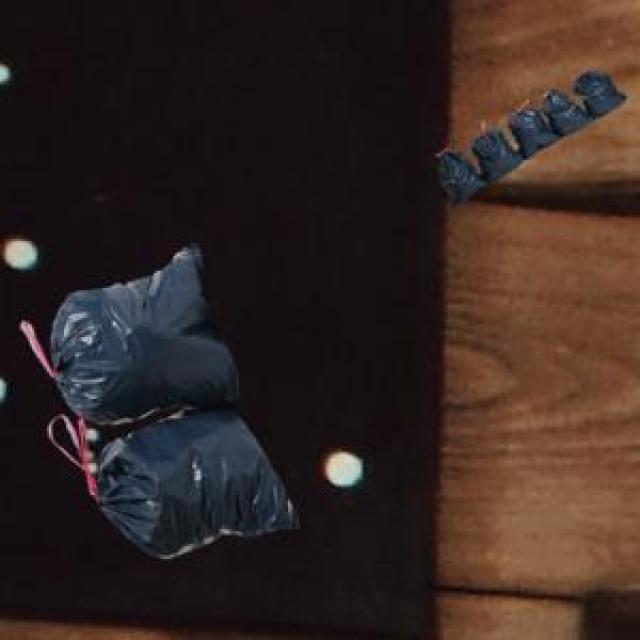waste: (20, 245, 299, 559), (441, 71, 625, 203)
